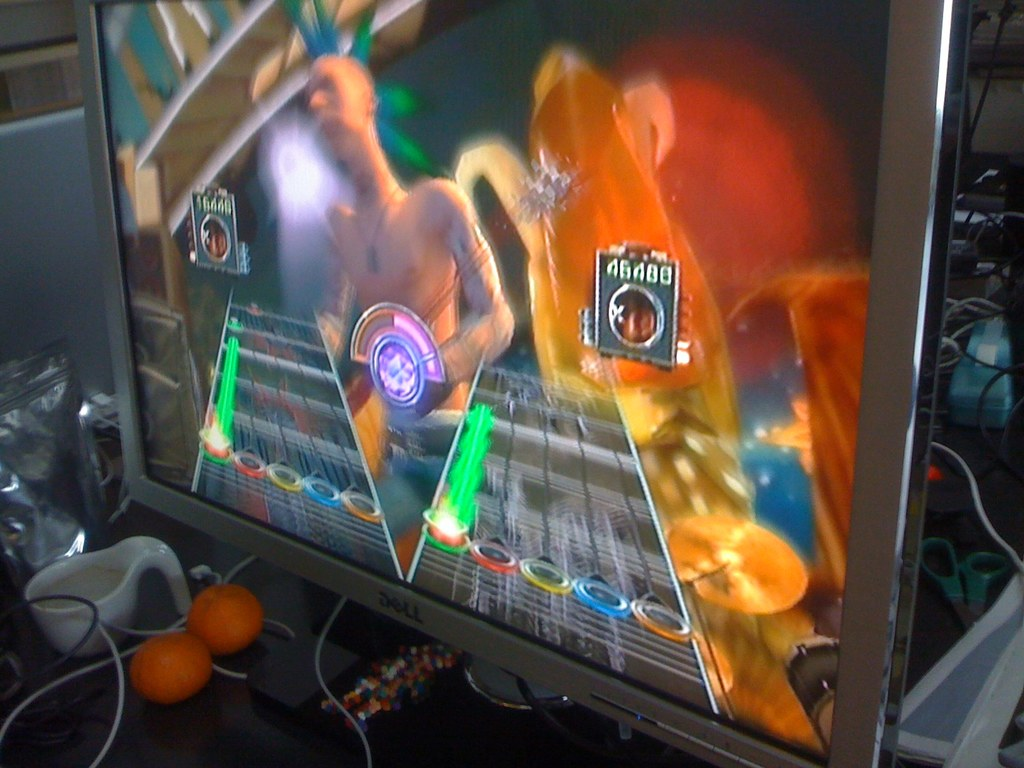Person: (304, 48, 516, 541)
